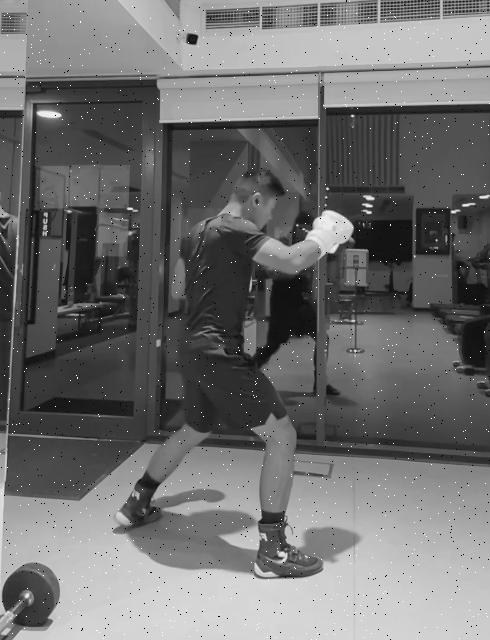punch: (110, 167, 354, 585)
